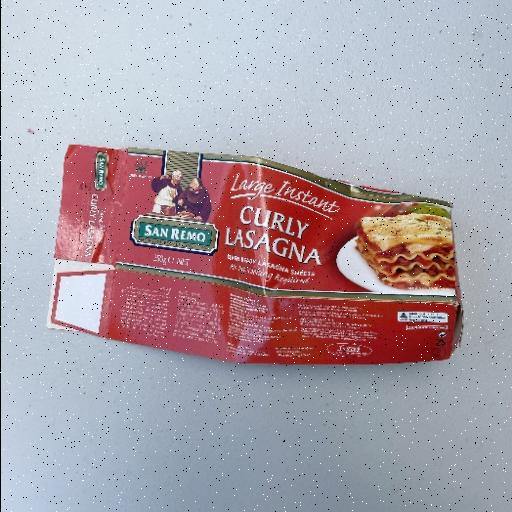Cardboard: (45, 142, 465, 368)
